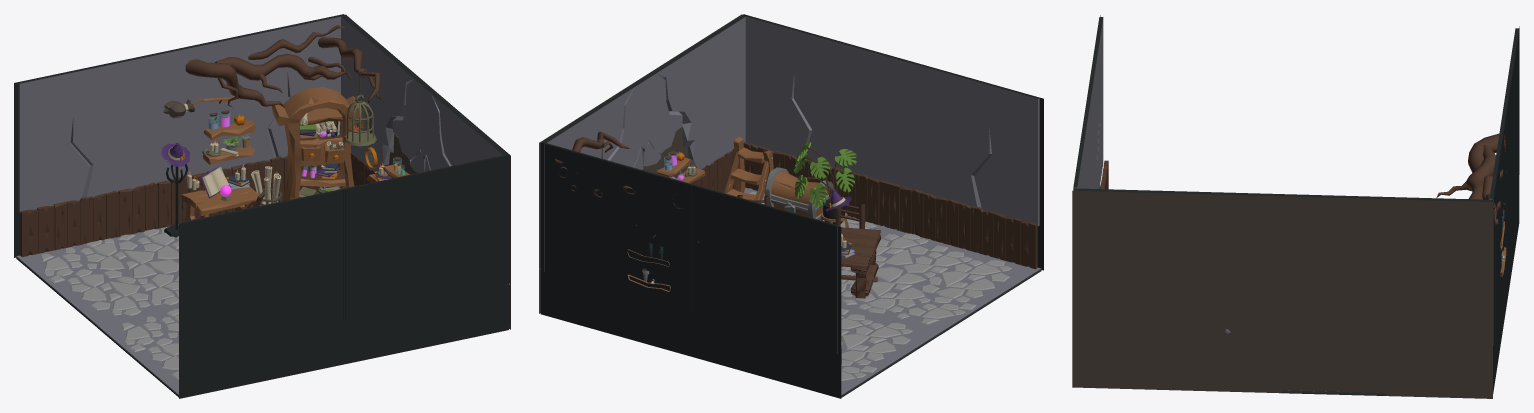
The picture shows the model from 3 angles, left to right: view 1: azimuth 30°, elevation 25°; view 2: azimuth 150°, elevation 25°; view 3: azimuth 270°, elevation 25°; orthographic projection. The views are drawn at different scales.
Visible parts, largest first — view 1: pCube128.001, pCube128, polySurface474.001, pPlane6, polySurface128, polySurface331, pCube24, polySurface478, pPlane15, pCylinder32, pCube126, pCylinder82 (+3 smaller); view 2: pCube128, pCube128.001, pPlane6, polySurface474.001, polySurface379, defaultMaterial.005, pTorus7, polySurface267, polySurface331, defaultMaterial.007; view 3: pPlane6, pCube128, pCube128.001, polySurface331.
Boxes of the visible parts, box(x1,y1,x2,y2) form: pCube128.001: box(179, 155, 508, 398); pCube128: box(14, 14, 344, 257); polySurface474.001: box(16, 224, 509, 397); pPlane6: box(341, 14, 510, 329); polySurface128: box(271, 87, 361, 201); polySurface331: box(185, 25, 384, 107); pCube24: box(181, 184, 263, 221); polySurface478: box(344, 95, 376, 146); pPlane15: box(251, 166, 281, 205); pCylinder32: box(163, 96, 234, 118); pCube126: box(204, 119, 255, 139); pCylinder82: box(164, 164, 188, 237); pCube128: box(540, 142, 841, 398); pCube128.001: box(743, 14, 1043, 270); pPlane6: box(539, 14, 746, 313); polySurface474.001: box(744, 187, 1041, 397); polySurface379: box(793, 142, 857, 224); defaultMaterial.005: box(841, 227, 880, 298); pTorus7: box(765, 167, 833, 219); polySurface267: box(724, 136, 773, 203); polySurface331: box(554, 131, 683, 208); defaultMaterial.007: box(825, 188, 865, 228); pPlane6: box(1072, 188, 1492, 398); pCube128: box(1489, 26, 1519, 393); pCube128.001: box(1073, 15, 1108, 189); polySurface331: box(1436, 133, 1505, 225).
Bounding box in the file's own units: 14772 × 7333 × 14888.
